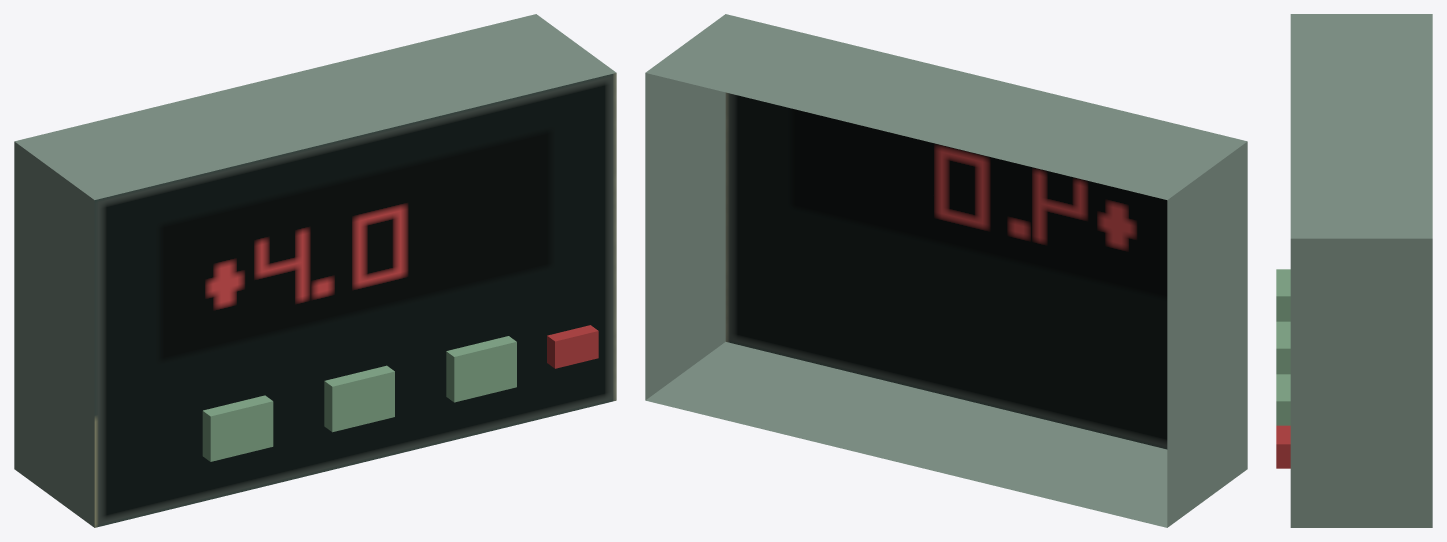
File: SM_LabCold_Panel_Control_30x8x18.fbx
3 renders of one model, left to right at view 1: azimuth 30°, elevation 25°; view 2: azimuth 150°, elevation 25°; view 3: azimuth 270°, elevation 25°, orthographic. The views are drawn at different scales.
Visible parts, largest first — view 1: SM_LabCold_Panel_Control_30x8x18.001; view 2: SM_LabCold_Panel_Control_30x8x18.001; view 3: SM_LabCold_Panel_Control_30x8x18.001.
Boxes of the visible parts, x1,y1,x2,y2 form: SM_LabCold_Panel_Control_30x8x18.001: (14, 14, 616, 527); SM_LabCold_Panel_Control_30x8x18.001: (645, 14, 1247, 527); SM_LabCold_Panel_Control_30x8x18.001: (1276, 14, 1432, 527).
Bounding box in the file's own units: 0.3 × 0.18 × 0.088.
